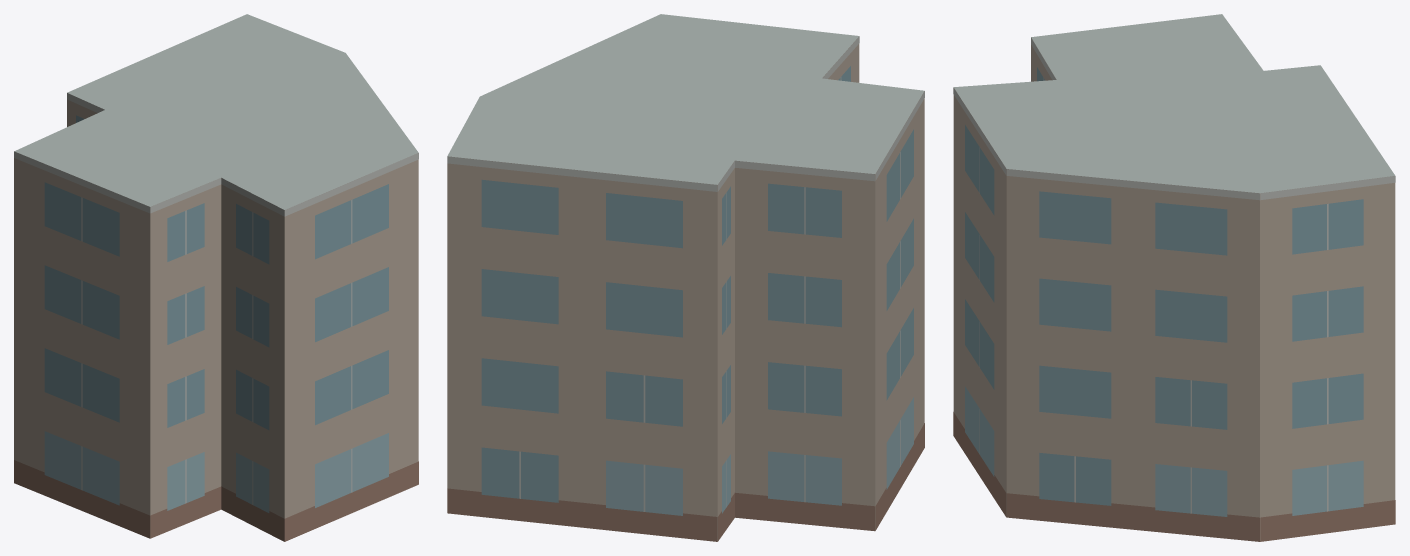
File: survey-upis-32586010.glb
3 renders of one model, left to right at view 1: azimuth 30°, elevation 25°; view 2: azimuth 150°, elevation 25°; view 3: azimuth 270°, elevation 25°, orthographic. The views are drawn at different scales.
Visible parts, largest first — view 1: survey-upis-32586010.tmp; view 2: survey-upis-32586010.tmp; view 3: survey-upis-32586010.tmp.
Part boxes in pixels (x1,y1,x2,y2): survey-upis-32586010.tmp: [14, 14, 418, 541]; survey-upis-32586010.tmp: [447, 14, 924, 541]; survey-upis-32586010.tmp: [953, 14, 1395, 541].
Size of the model in its own units: 13.46 by 12.2 by 14.03.
